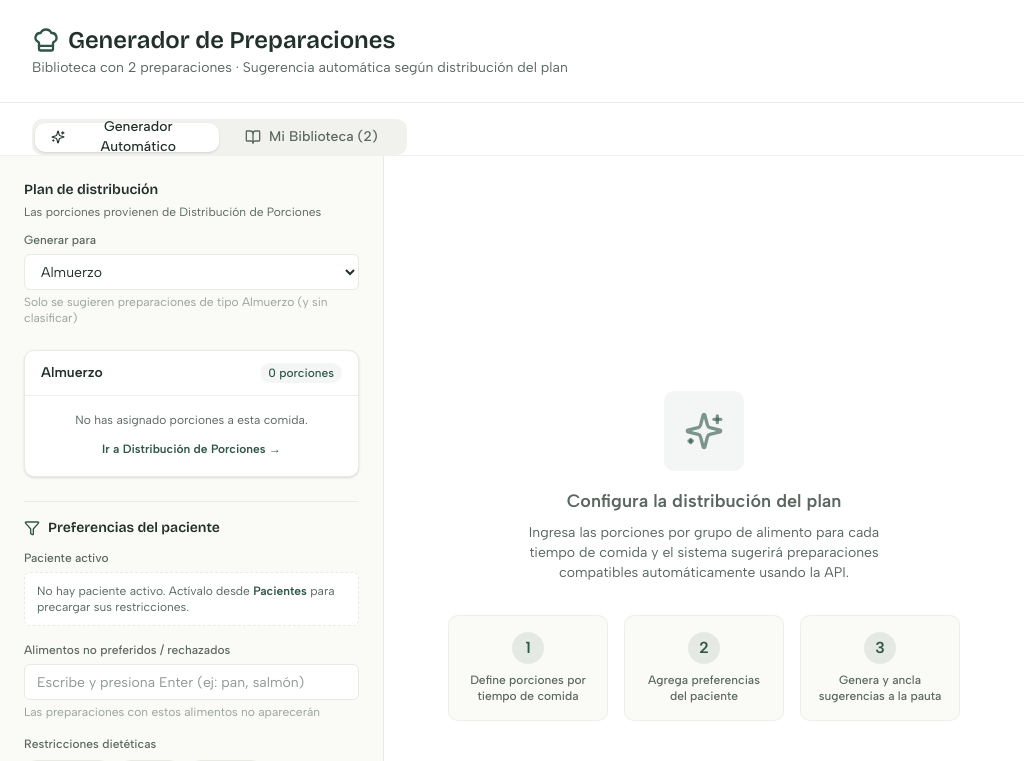
Test: GeneradorPreparaciones › pestaña biblioteca › filtra preparaciones por nombre al escribir en el buscador
Click the button "Mi Biblioteca (2)" at (311, 137), box [219,122,404,152]
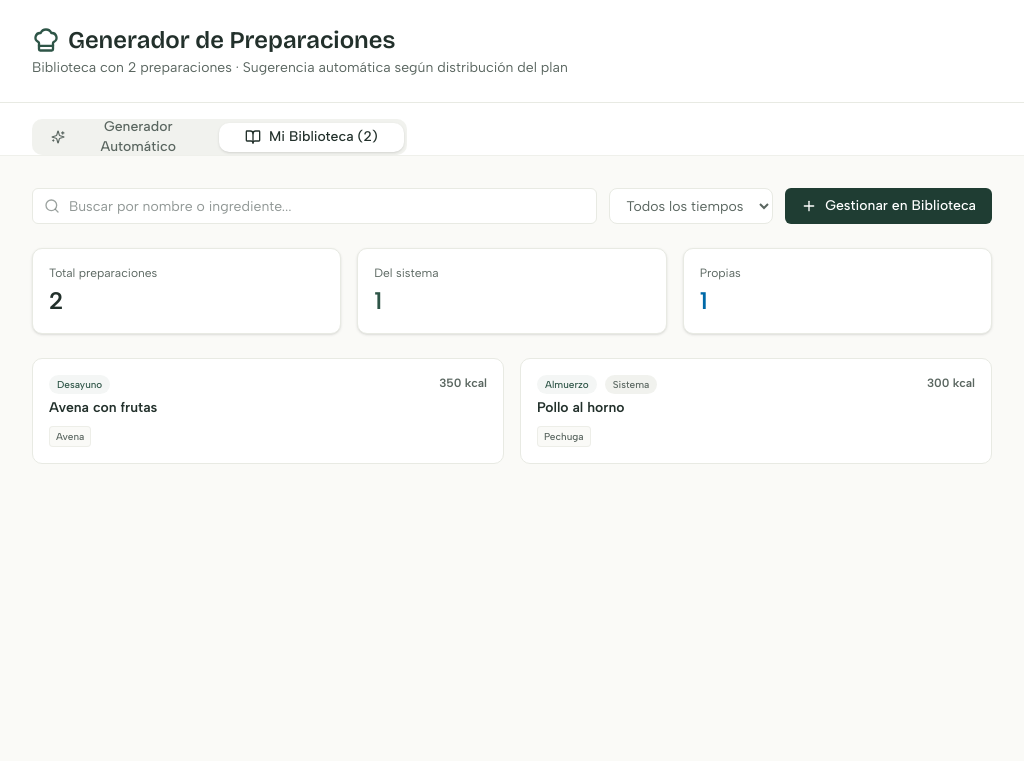
Type "Avena" into the field with placeholder "Buscar por nombre o ingrediente..." at (315, 206), box [32,188,597,224]
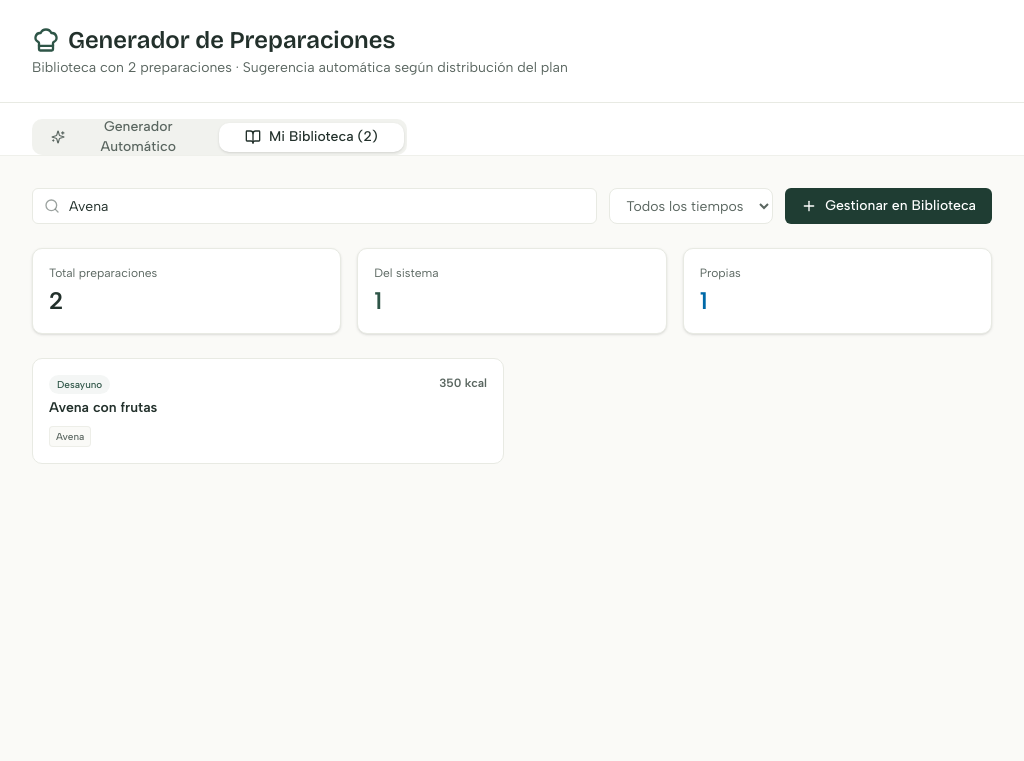
Expected: the heading "Avena con frutas" is shown, [49,399,157,416]
Expected: the heading "Pollo al horno" is gone
